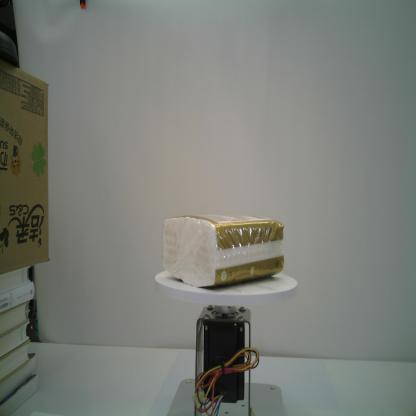Tissue: (163, 213, 284, 288)
